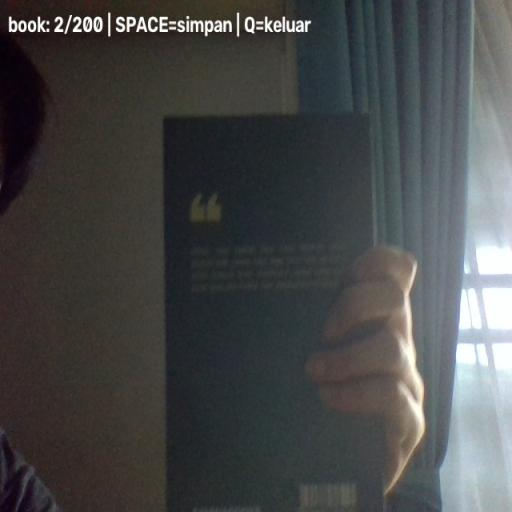Book: (163, 113, 386, 512)
